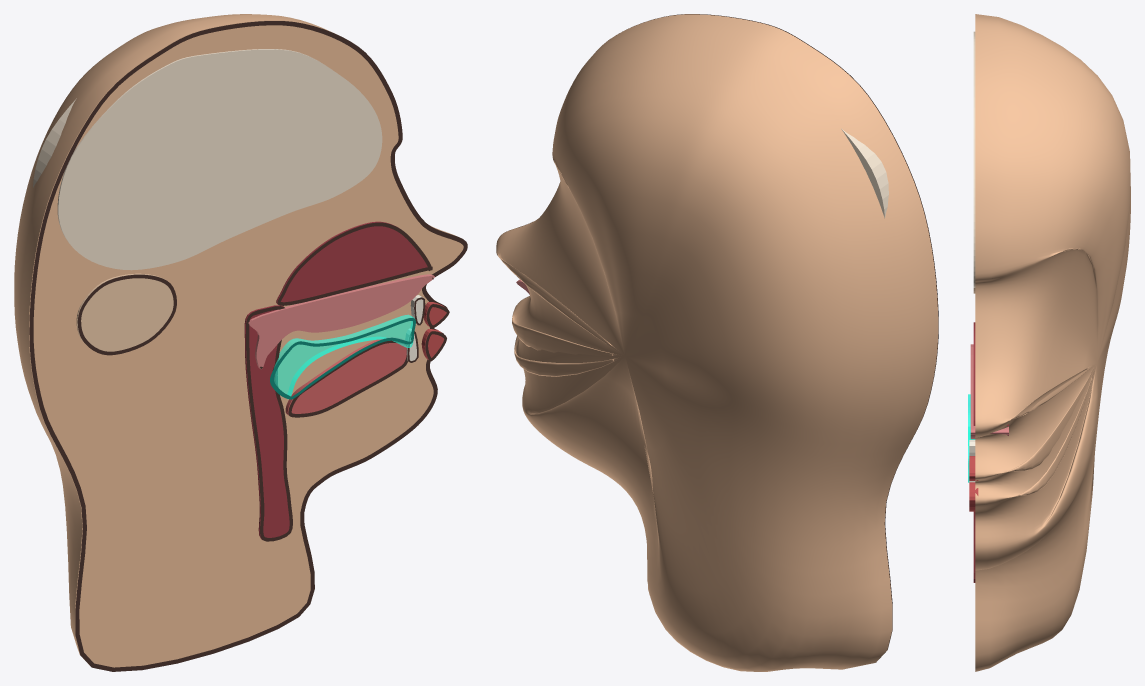
The model's file is mouth3d.glb.
The picture shows the model from 3 angles, left to right: view 1: azimuth 30°, elevation 25°; view 2: azimuth 150°, elevation 25°; view 3: azimuth 270°, elevation 25°; orthographic projection. The views are drawn at different scales.
Visible parts, largest first — view 1: Head, Brain, HeadLine, Nasal, Palate, Cerebellum, Airway, Tongue, Cavity, AirwayLine, NasalLine, CavityLine (+2 smaller); view 2: Head, Brain, HeadLine; view 3: Head, Brain, Palate, Nasal.
Boxes of the visible parts, x1,y1,x2,y2 form: Head: (14, 14, 463, 667); Brain: (33, 49, 382, 270); HeadLine: (29, 21, 467, 671); Nasal: (276, 221, 427, 304); Palate: (248, 274, 434, 369); Cerebellum: (76, 273, 173, 351); Airway: (244, 305, 289, 539); Tongue: (285, 337, 406, 415); Cavity: (274, 314, 413, 399); AirwayLine: (246, 306, 292, 541); NasalLine: (277, 222, 432, 305); CavityLine: (270, 318, 415, 399); Head: (496, 14, 938, 671); Brain: (841, 128, 888, 218); HeadLine: (506, 14, 938, 662); Head: (975, 14, 1130, 671); Brain: (973, 31, 975, 287); Palate: (970, 344, 1008, 439); Nasal: (973, 322, 1008, 425).
Size of the model in its own units: 16.92 by 23.13 by 5.58.
